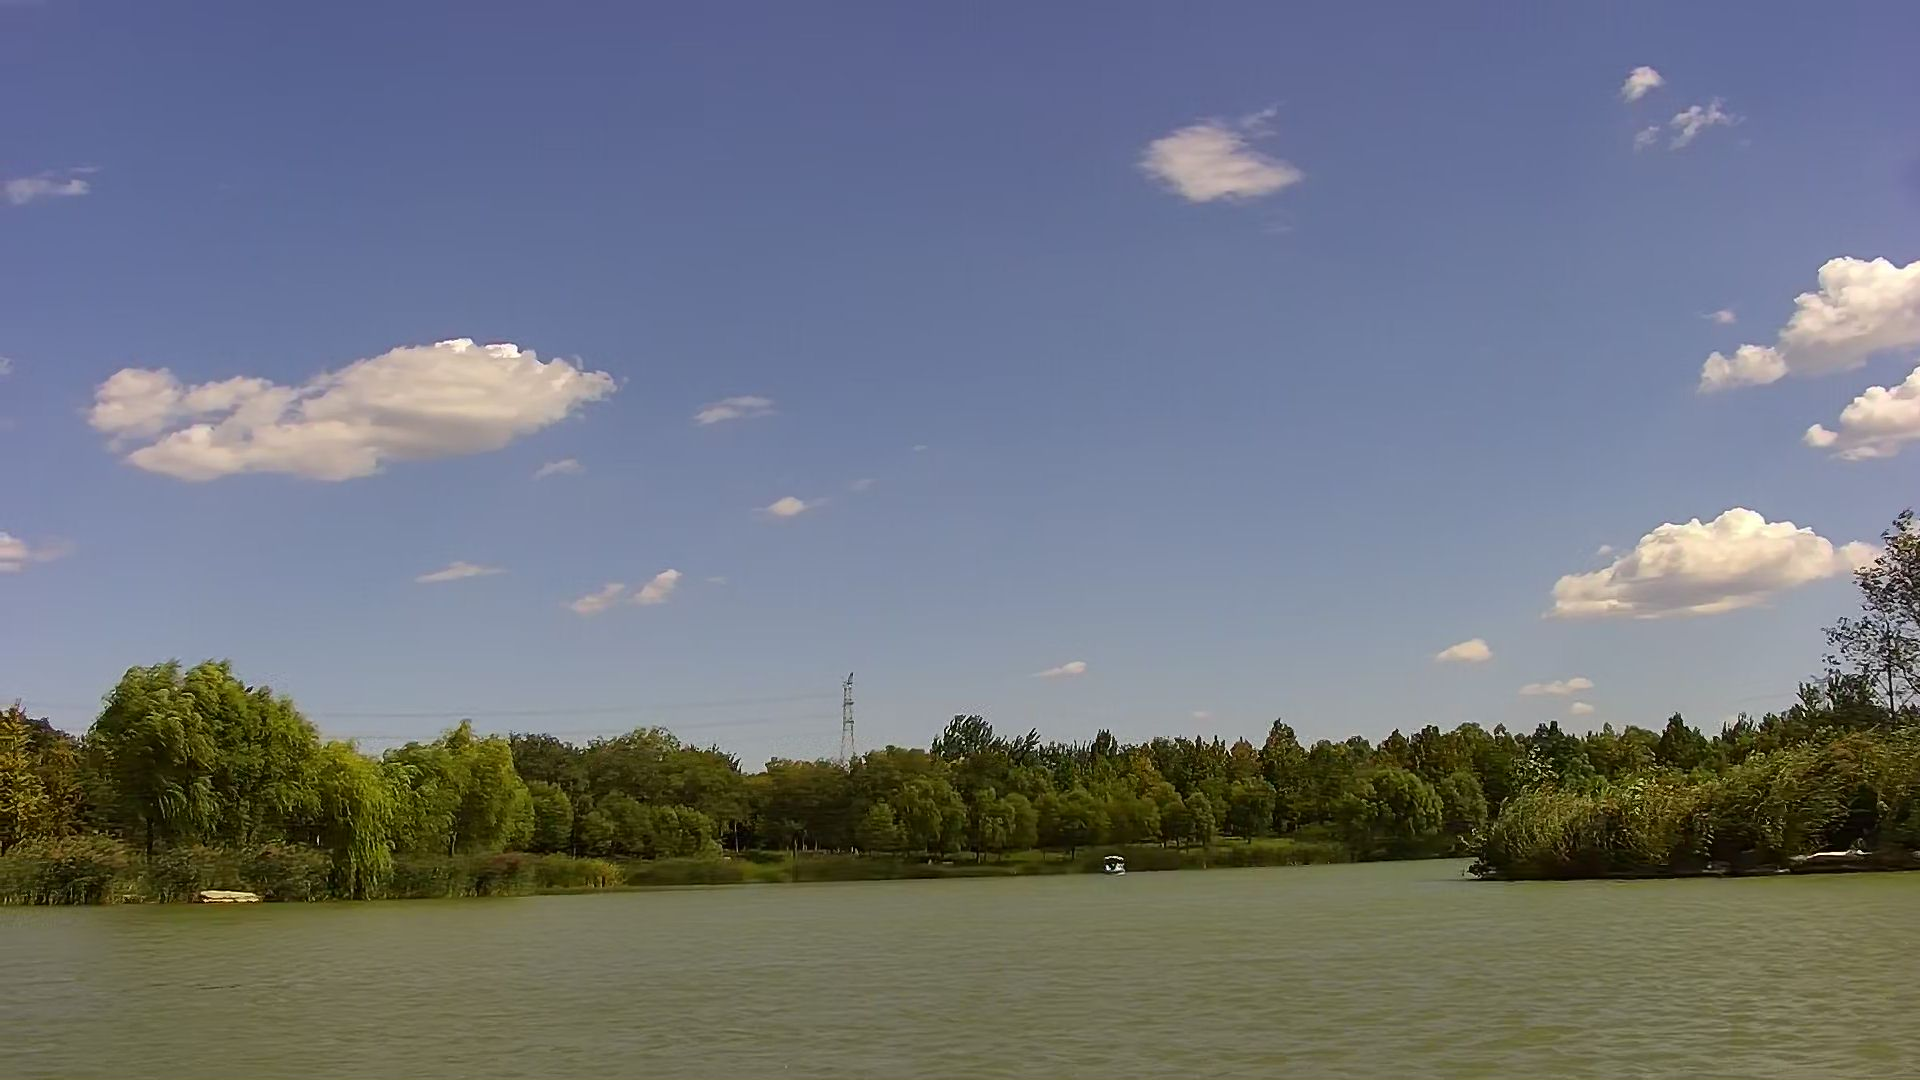boat: (1101, 851, 1130, 877)
